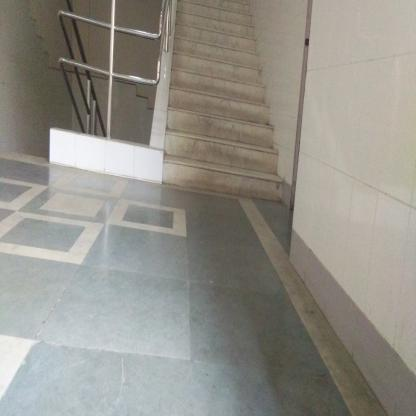stairs: (181, 39, 260, 202)
